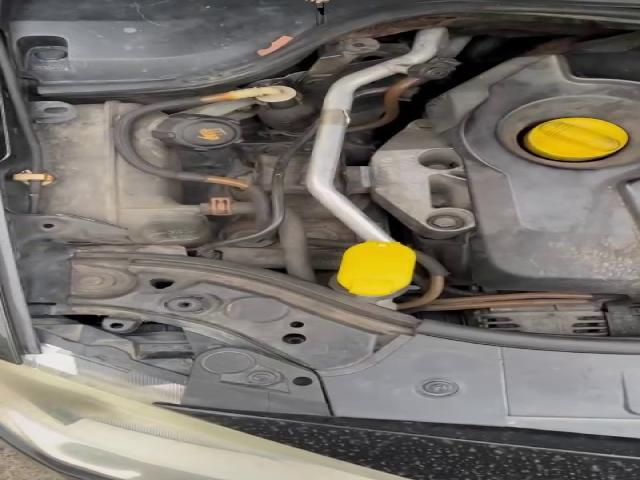antifreeze_tank: (35, 101, 210, 246), (132, 112, 243, 169)
